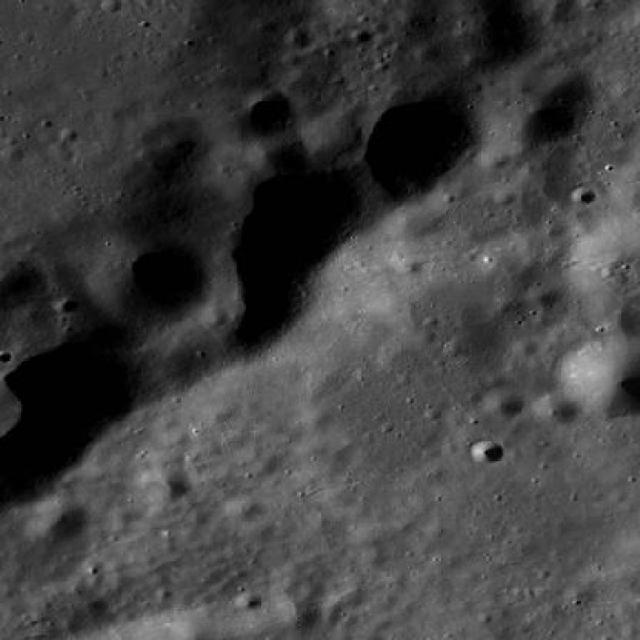crater: (352, 234, 496, 337), (83, 232, 212, 325), (468, 60, 588, 146), (198, 84, 294, 152), (452, 5, 540, 68), (22, 494, 90, 544), (250, 132, 312, 177), (306, 112, 368, 156), (381, 201, 437, 241), (379, 334, 433, 372), (144, 468, 192, 504), (534, 393, 582, 427), (245, 86, 293, 120), (482, 389, 526, 420), (0, 367, 34, 402), (242, 519, 281, 547), (536, 0, 581, 22), (284, 602, 322, 628), (227, 497, 264, 523), (492, 296, 528, 322), (527, 286, 561, 311), (480, 144, 512, 168), (198, 306, 230, 328), (472, 440, 502, 462), (566, 586, 594, 608), (304, 410, 333, 430), (250, 454, 279, 474), (80, 596, 108, 616), (285, 26, 313, 46), (512, 338, 538, 357), (398, 255, 424, 274), (112, 506, 138, 524), (50, 144, 76, 162), (236, 592, 261, 610), (414, 44, 440, 61), (572, 186, 596, 203), (56, 298, 78, 314), (444, 341, 466, 356), (156, 414, 178, 429)
